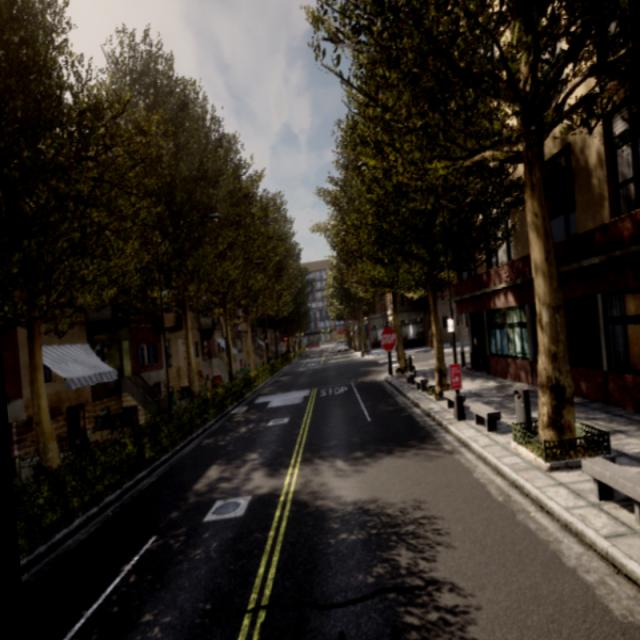stop sign: (378, 323, 398, 352)
